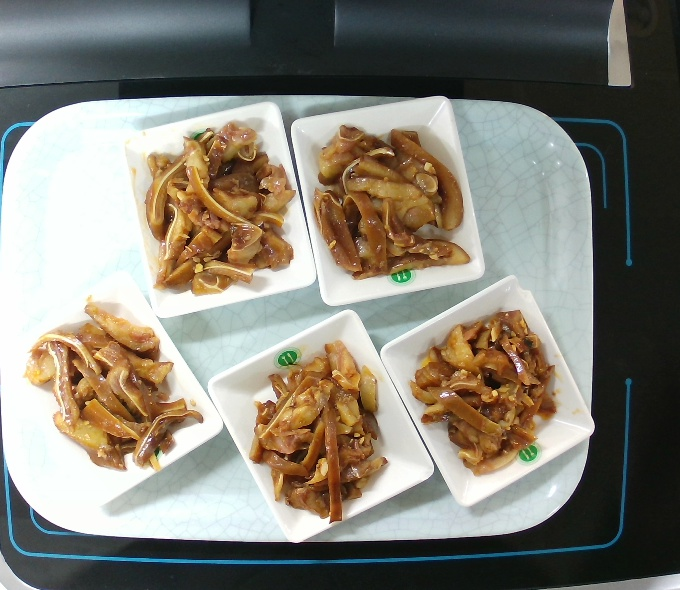wcq-ZhuErDuo: (26, 285, 204, 482), (131, 104, 299, 298), (236, 335, 392, 524), (401, 302, 563, 484), (305, 108, 475, 279)
